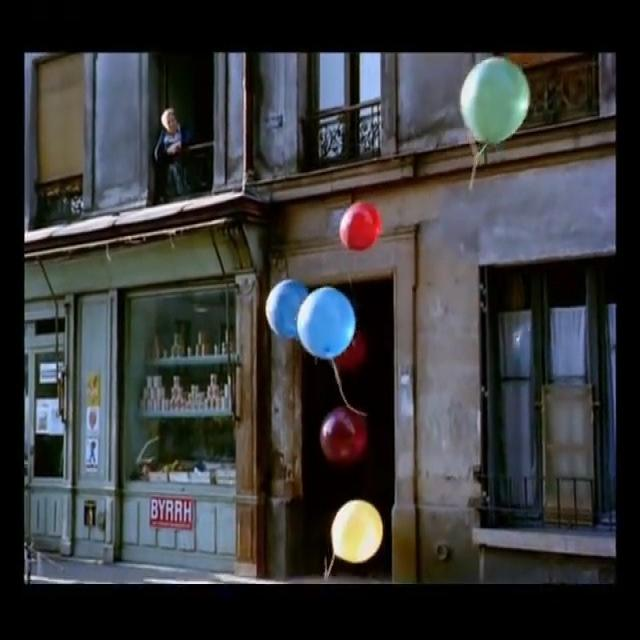balloon: (459, 55, 530, 148), (296, 285, 356, 360), (329, 497, 383, 564), (319, 405, 367, 464), (264, 277, 308, 340), (338, 200, 382, 251)
